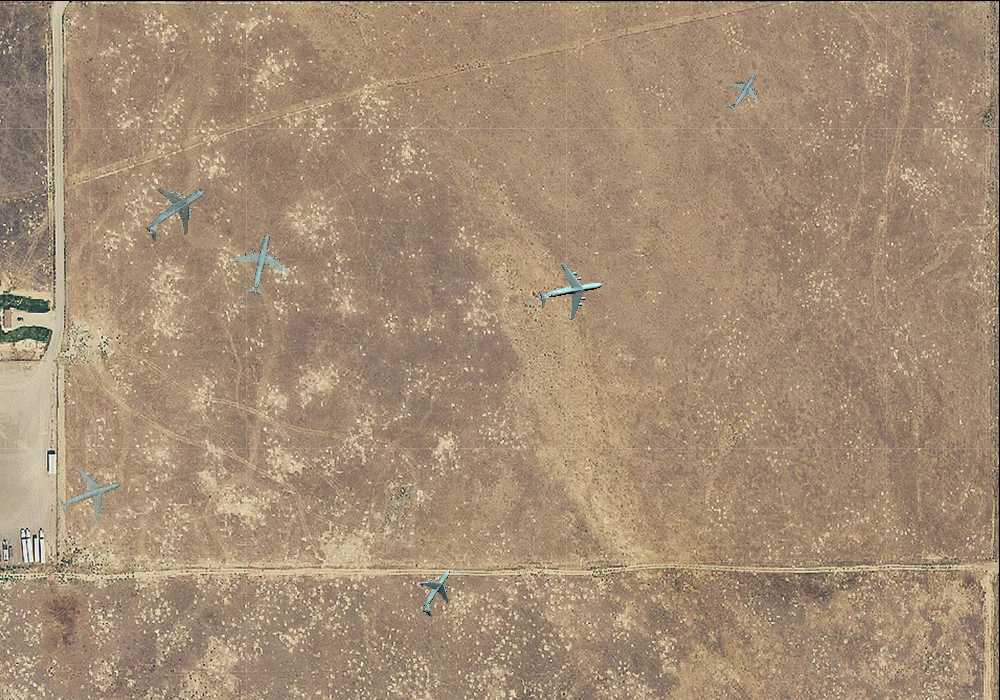plane: (128, 165, 224, 258), (49, 456, 129, 534), (224, 226, 297, 302), (533, 255, 607, 328), (405, 560, 468, 625), (713, 60, 772, 121)
